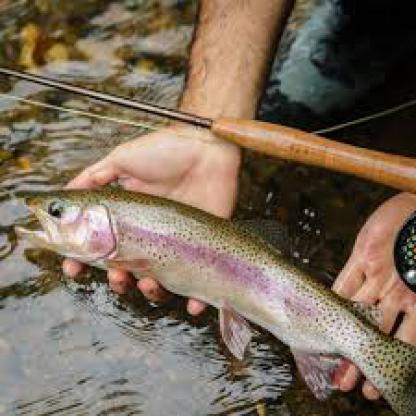fish: (8, 184, 414, 412)
